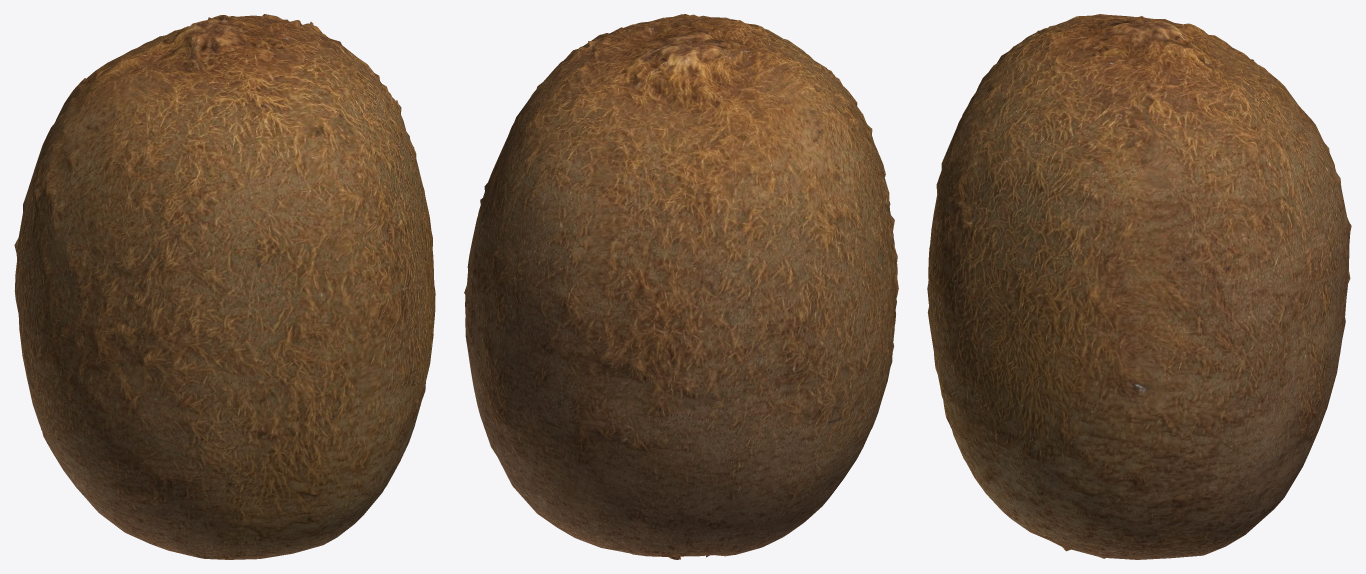
File: food_kiwi_01.glb
3 views of the same model, side by side, from view 1: azimuth 30°, elevation 25°; view 2: azimuth 150°, elevation 25°; view 3: azimuth 270°, elevation 25° (orthographic).
Visible parts, largest first — view 1: food_kiwi_01; view 2: food_kiwi_01; view 3: food_kiwi_01.
Boxes of the visible parts, box(x1,y1,x2,y2) form: food_kiwi_01: box(14, 14, 435, 559); food_kiwi_01: box(464, 14, 898, 559); food_kiwi_01: box(927, 14, 1351, 559).
Bounding box in the file's own units: 0.0695 × 0.0901 × 0.0686.
1 material, 1 textured.
